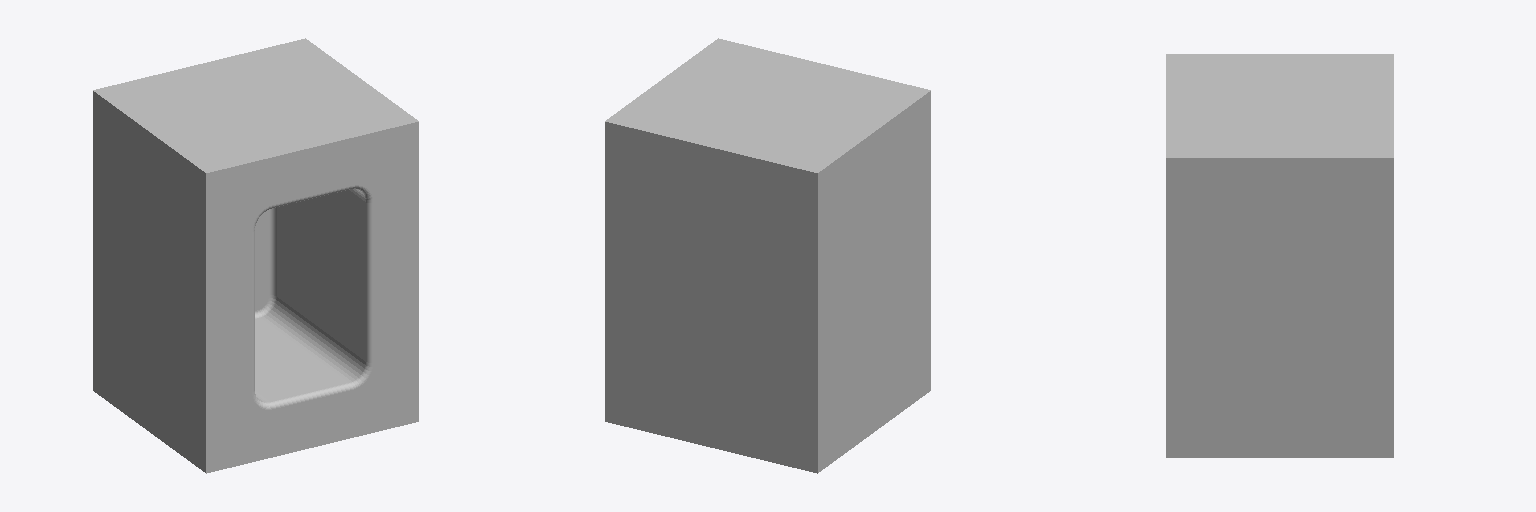
File: pattern.obj
The picture shows the model from 3 angles: view 1: azimuth 30°, elevation 25°; view 2: azimuth 150°, elevation 25°; view 3: azimuth 270°, elevation 25°; orthographic projection.
Bounding box in the file's own units: 0.7429 × 1 × 0.6857.